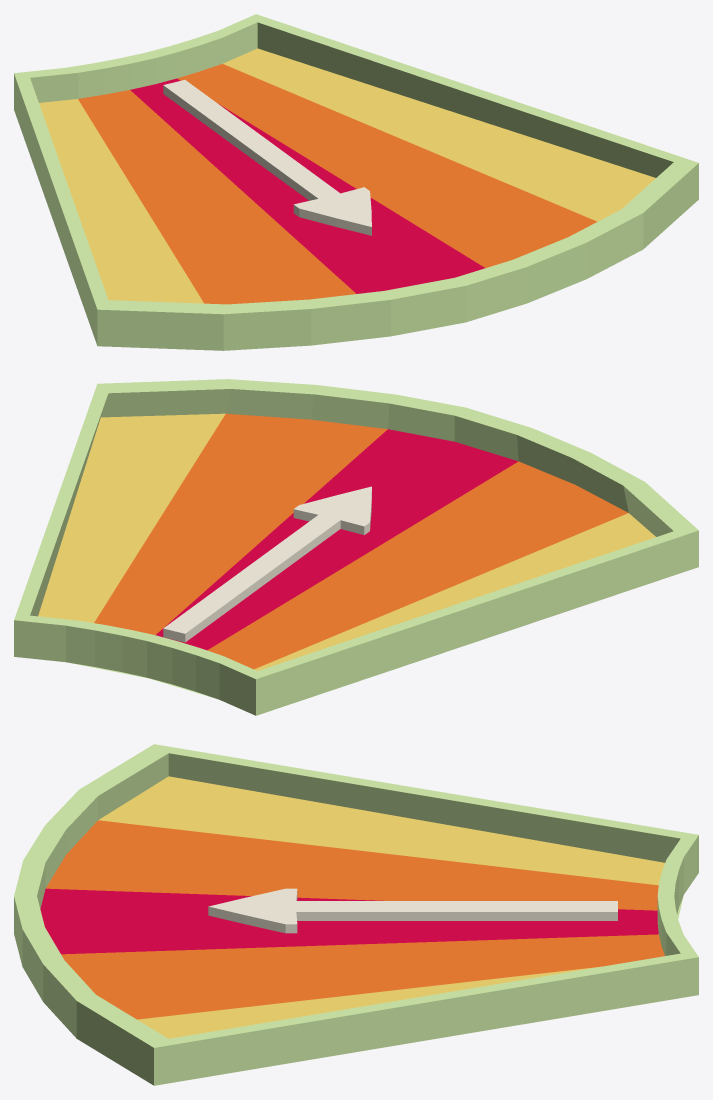
File: HitIndicator.fbx
3 renders of one model, top to bottom at view 1: azimuth 30°, elevation 25°; view 2: azimuth 150°, elevation 25°; view 3: azimuth 270°, elevation 25°, orthographic. The views are drawn at different scales.
Visible parts, largest first — view 1: HitIndicator, Arrow; view 2: HitIndicator, Arrow; view 3: HitIndicator, Arrow.
Boxes of the visible parts, x1,y1,x2,y2 form: HitIndicator: (14, 14, 698, 350); Arrow: (163, 80, 371, 235); HitIndicator: (14, 379, 698, 715); Arrow: (163, 486, 371, 642); HitIndicator: (14, 744, 698, 1085); Arrow: (208, 888, 617, 933).
Size of the model in its own units: 264 by 15.35 by 251.
